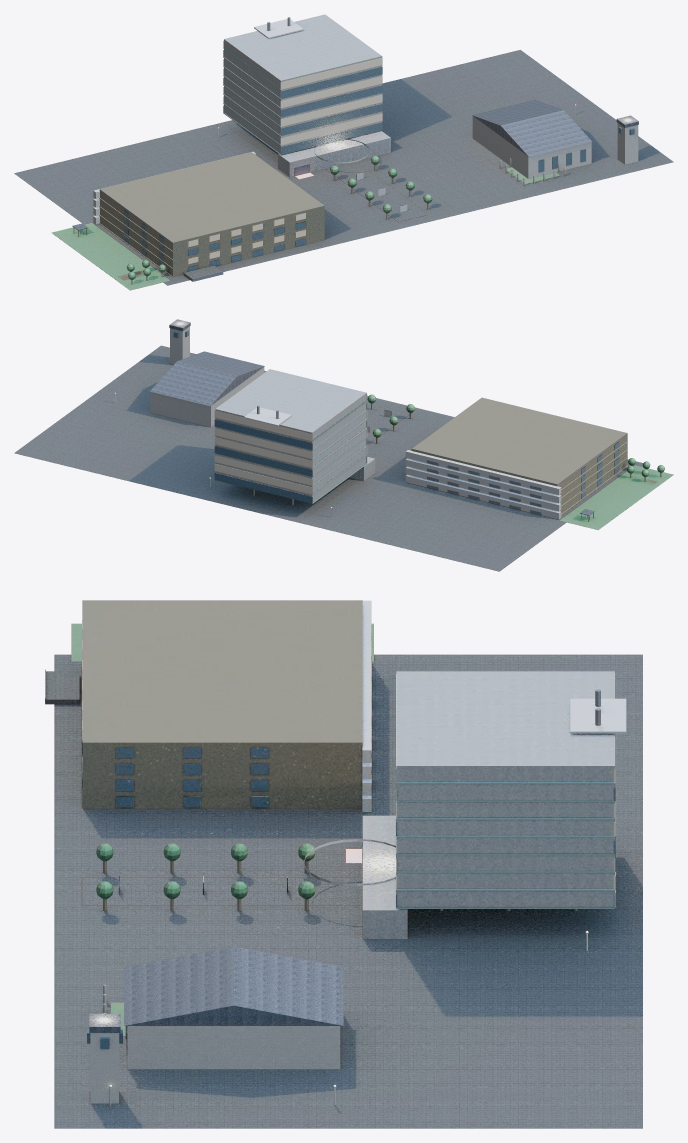
Rendered from care_cluster.glb.
The picture shows the model from 3 angles, top to bottom: view 1: azimuth 30°, elevation 25°; view 2: azimuth 150°, elevation 25°; view 3: azimuth 270°, elevation 25°; orthographic projection. The views are drawn at different scales.
Visible parts, largest first — view 1: site_ground, props_care_home, props_hospital, props_monastery, props_street; view 2: site_ground, props_care_home, props_hospital, props_monastery, props_street; view 3: site_ground, props_care_home, props_hospital, props_monastery, props_street.
Part boxes in pixels (x1,y1,x2,y2): site_ground: (14,50,673,285); props_care_home: (51,151,324,290); props_hospital: (223,14,390,179); props_monastery: (472,100,638,185); props_street: (325,155,432,222); site_ground: (14,345,643,571); props_care_home: (405,397,673,529); props_hospital: (214,369,375,503); props_monastery: (150,319,264,427); props_street: (249,394,414,510); site_ground: (54,654,642,1128); props_care_home: (45,600,373,811); props_hospital: (304,671,626,938); props_monastery: (87,946,343,1103); props_street: (82,843,577,911).
Bounding box in the file's own units: 213 × 37.75 × 107.
6 materials, 6 textured.
